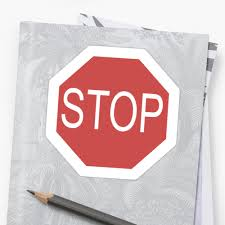Stop: (30, 27, 193, 198)
